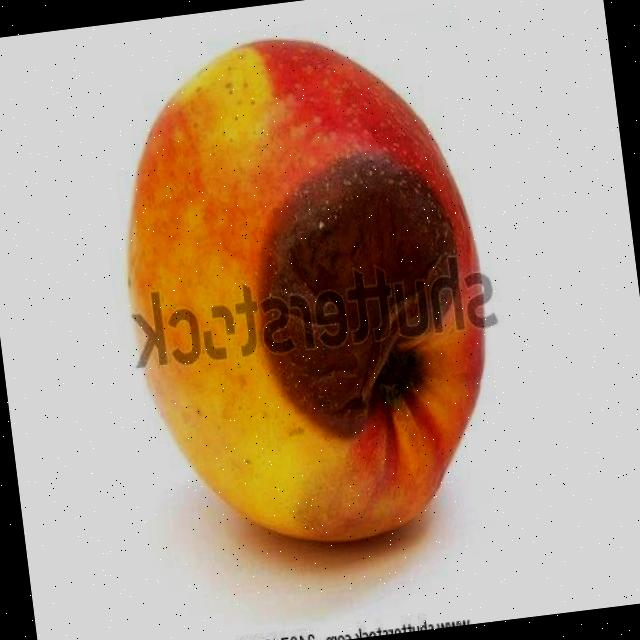rotten apple: (74, 0, 543, 586)
